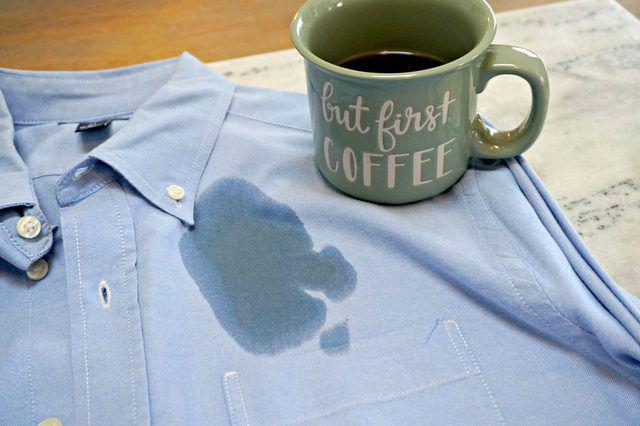gun: (176, 177, 355, 358)
